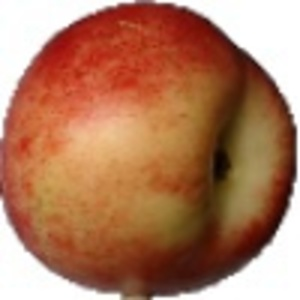nectarina: (1, 1, 299, 300)
